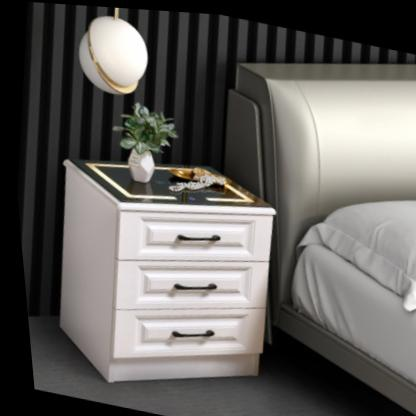Nightstand: (41, 153, 278, 390)
